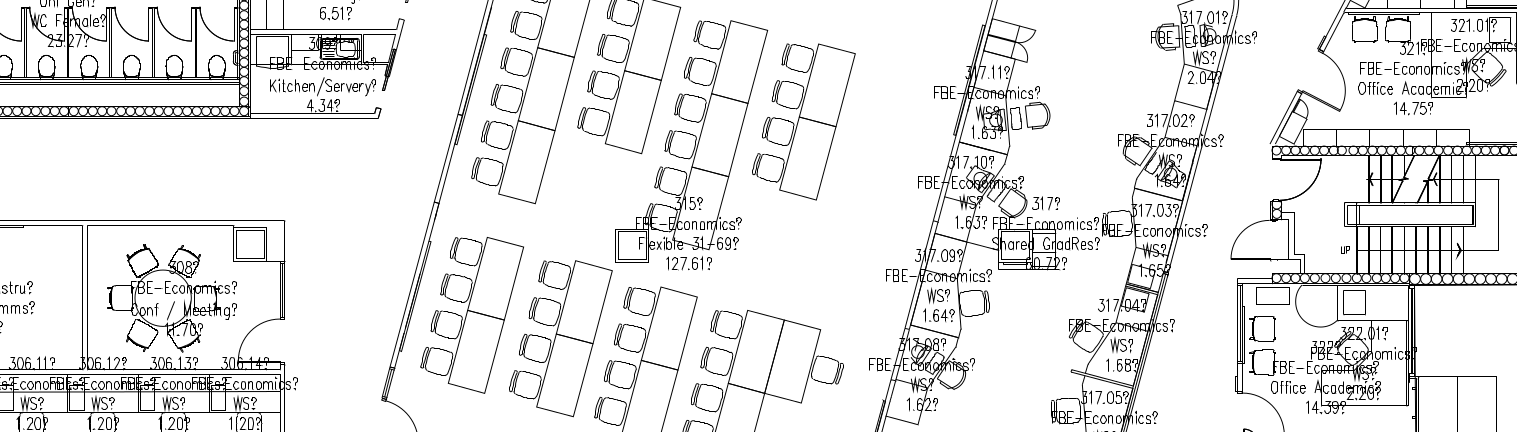door: (1300, 51, 1352, 115), (1223, 207, 1275, 271), (232, 313, 280, 365), (1278, 156, 1326, 208), (1238, 388, 1287, 432)
